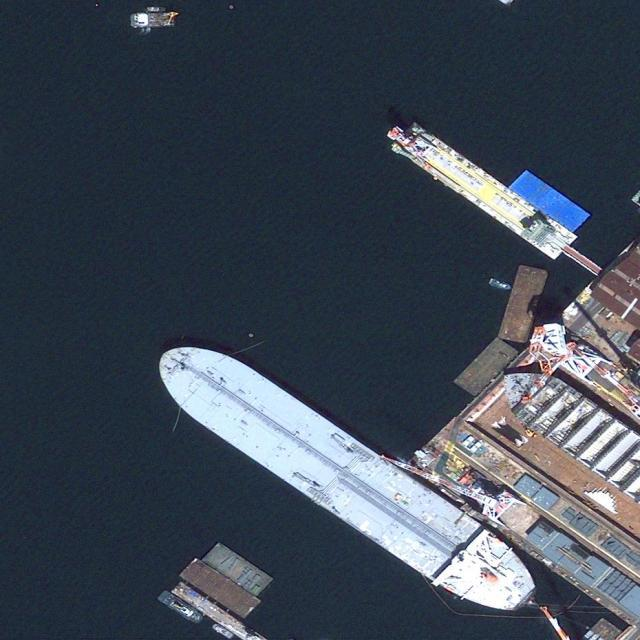Dock: (382, 113, 610, 285)
Oil Tanker: (141, 322, 547, 630)
Other Ship: (157, 588, 205, 626)
